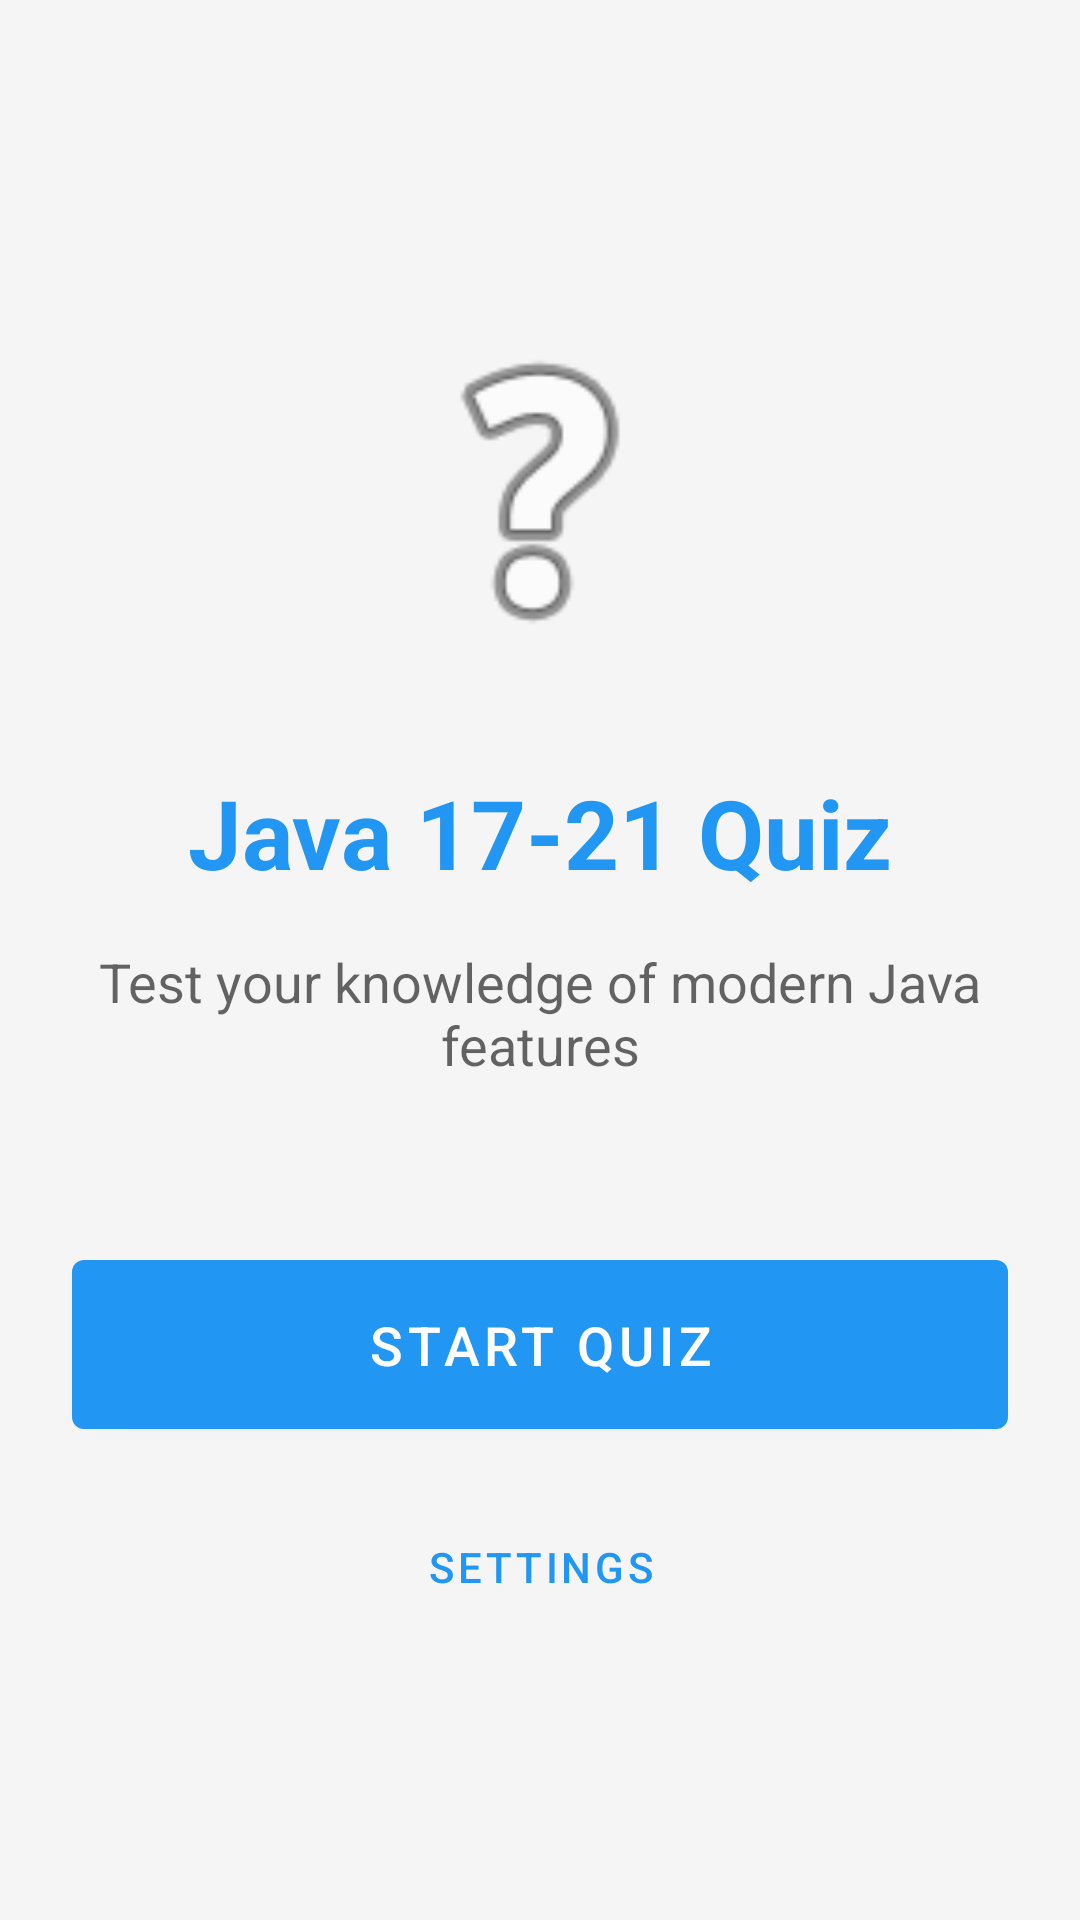

Icon bounding boxes for this 1080x1920 phone screenshot, format (x1, y1, x2, y2):
help: (461, 363, 619, 621)
